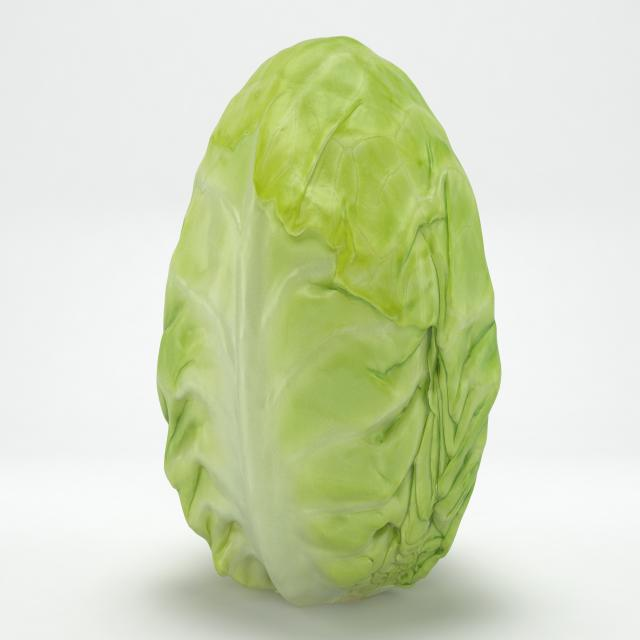cabbage: (148, 35, 503, 607)
